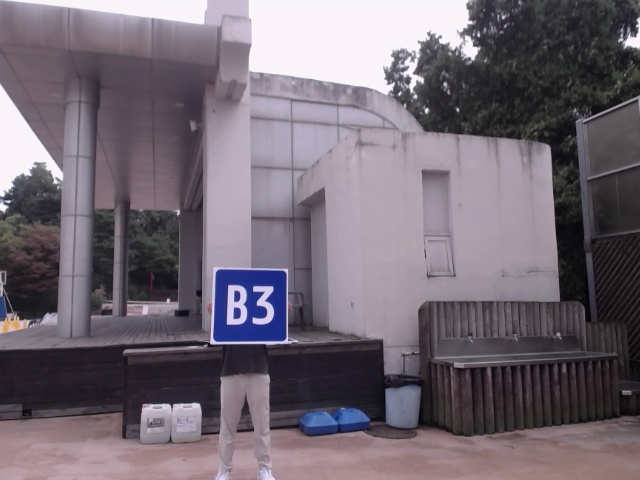delivery_b3: (215, 267, 288, 343)
